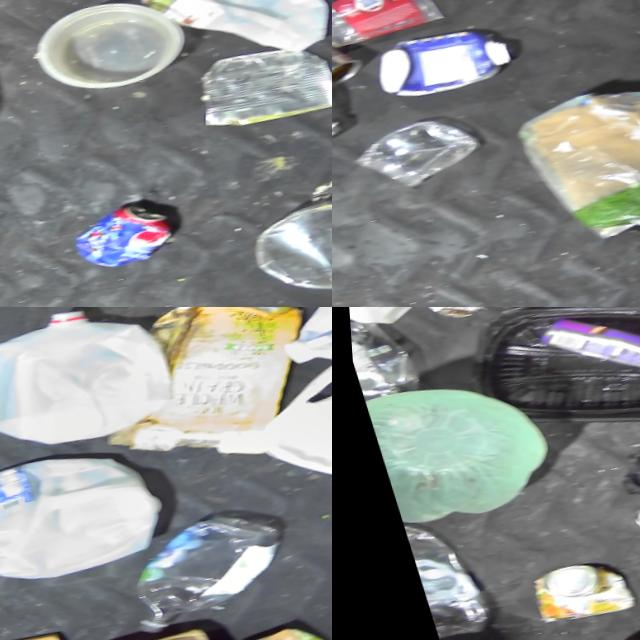can: (178, 25, 332, 134), (55, 187, 176, 275), (513, 545, 631, 629), (332, 9, 367, 101)
milk_jug: (0, 424, 172, 603), (0, 307, 184, 464), (228, 319, 332, 500), (126, 0, 332, 80)
plastic_bottle: (97, 490, 298, 639), (391, 497, 488, 640)
